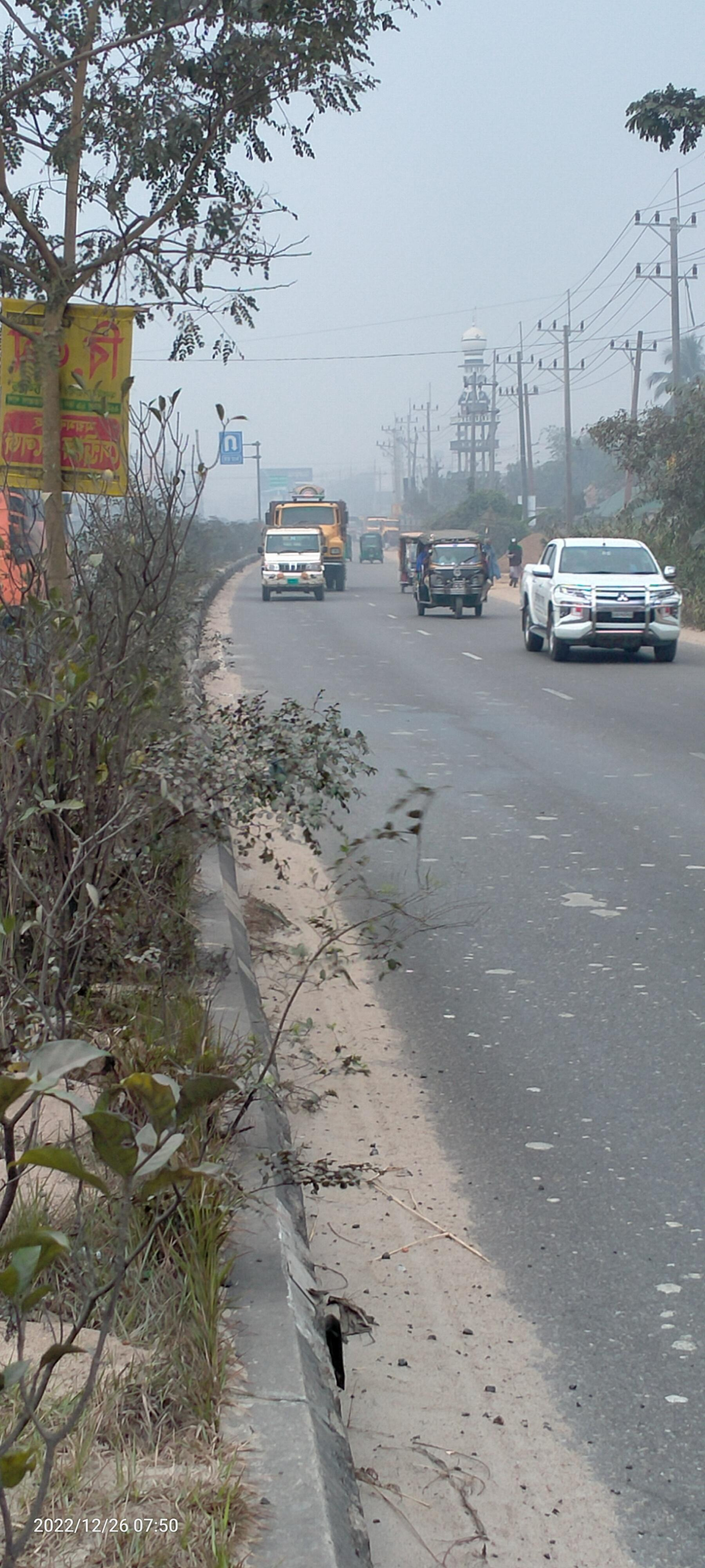Car: (521, 527, 695, 686)
Truck: (264, 483, 356, 581), (251, 519, 333, 609)
